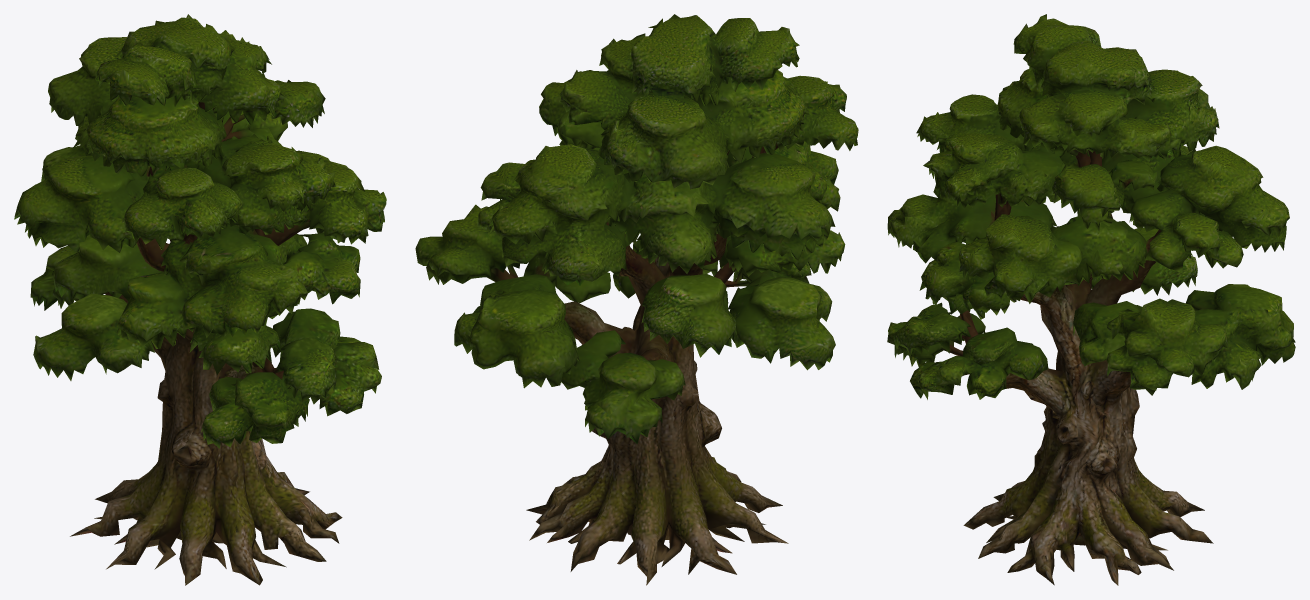
Rendered from oak.glb.
3 renders of one model, left to right at view 1: azimuth 30°, elevation 25°; view 2: azimuth 150°, elevation 25°; view 3: azimuth 270°, elevation 25°, orthographic. The views are drawn at different scales.
Parts seen in each view (by area): view 1: tripo_node_91c9d8c2-5d77-4537-984f-36a42359ae08; view 2: tripo_node_91c9d8c2-5d77-4537-984f-36a42359ae08; view 3: tripo_node_91c9d8c2-5d77-4537-984f-36a42359ae08.
Part boxes in pixels (x1,y1,x2,y2): tripo_node_91c9d8c2-5d77-4537-984f-36a42359ae08: [14, 14, 386, 585]; tripo_node_91c9d8c2-5d77-4537-984f-36a42359ae08: [415, 14, 858, 585]; tripo_node_91c9d8c2-5d77-4537-984f-36a42359ae08: [887, 14, 1295, 585].
Bounding box in the file's own units: 0.7577 × 0.9786 × 0.7635.
1 material, 1 textured.
